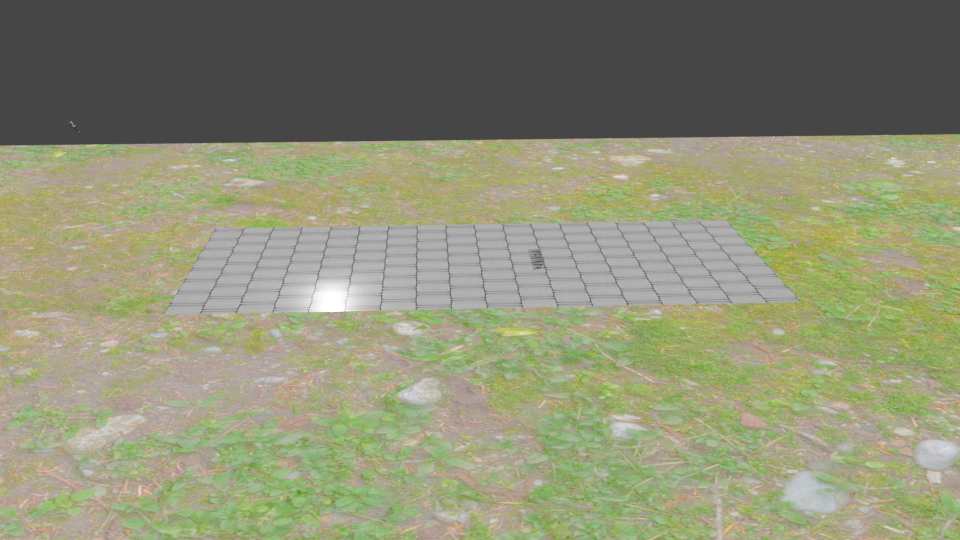yamaha_letters: (527, 247, 546, 268)
